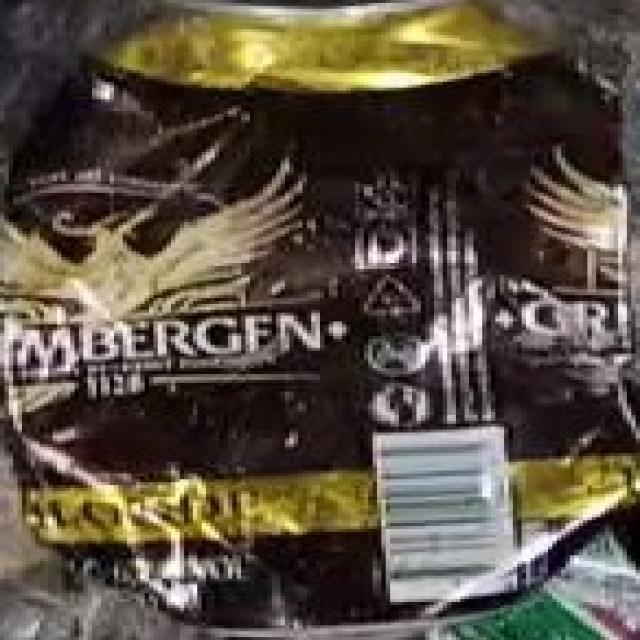can: (0, 0, 638, 622)
